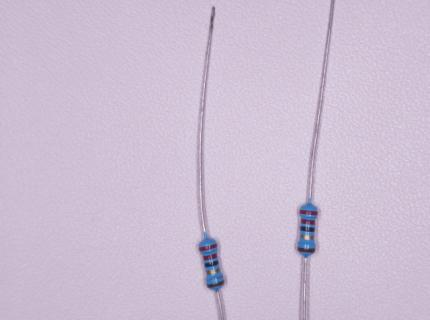Black band: (204, 260, 220, 268), (300, 226, 315, 232)
Brown band: (206, 280, 224, 289), (298, 247, 315, 253)
Gold band: (206, 268, 221, 275), (300, 234, 314, 240)
Red band: (199, 243, 218, 252), (203, 253, 218, 261), (299, 210, 318, 216), (300, 219, 316, 225)
